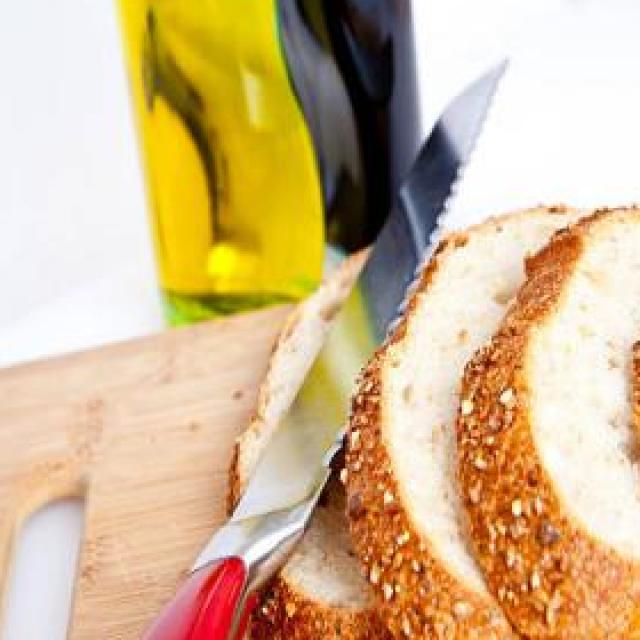knife: (139, 52, 509, 640)
